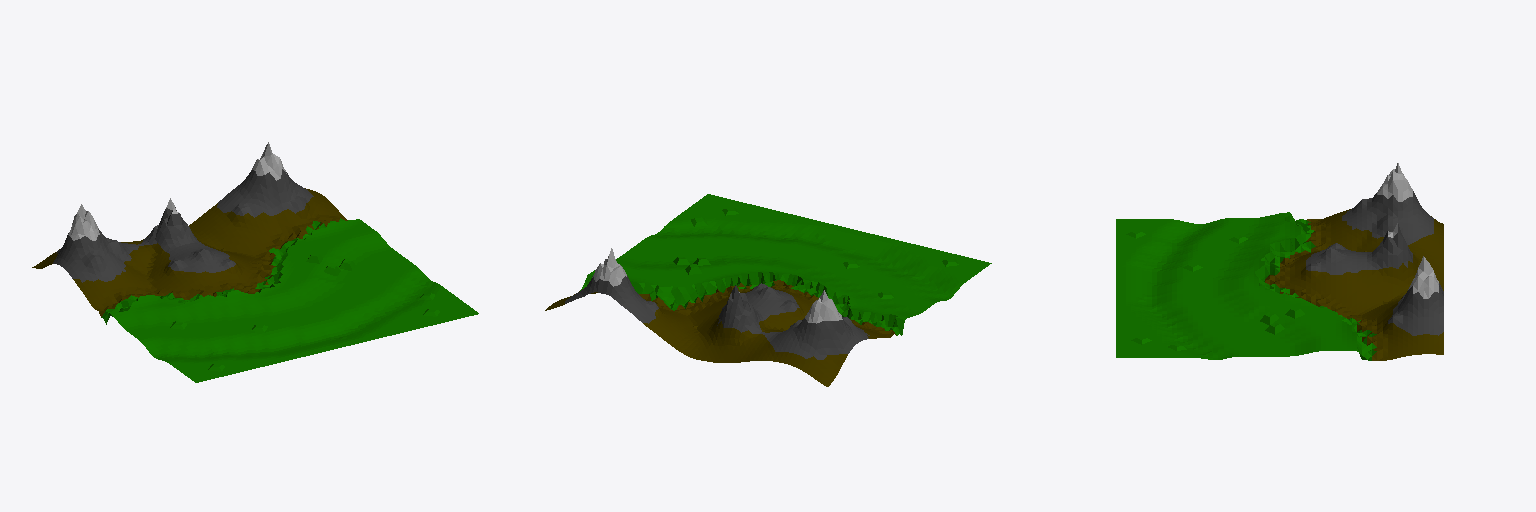
The model's file is plains.obj.
The picture shows the model from 3 angles: view 1: azimuth 30°, elevation 25°; view 2: azimuth 150°, elevation 25°; view 3: azimuth 270°, elevation 25°; orthographic projection.
Visible parts, largest first — view 1: Plane.003, Plane.002, Plane.008, Plane.004, Plane.005, Plane.006, Plane.007, Plane.001; view 2: Plane.003, Plane.008, Plane.004, Plane.005, Plane.006, Plane.002, Plane.007, Plane.001; view 3: Plane.004, Plane.007, Plane.002, Plane.001, Plane.005, Plane.003, Plane.006, Plane.008.
Part boxes in pixels (x1,y1,x2,y2): Plane.003: (210,159,412,339); Plane.002: (258,142,448,329); Plane.008: (32,204,226,382); Plane.004: (189,209,372,350); Plane.005: (147,198,328,358); Plane.006: (120,236,292,367); Plane.007: (89,212,256,375); Plane.001: (296,183,478,320); Plane.003: (611,210,813,329); Plane.008: (797,256,991,386); Plane.004: (651,220,857,358); Plane.005: (695,231,893,362); Plane.006: (731,239,928,362); Plane.002: (575,202,773,300); Plane.007: (766,248,960,367); Plane.001: (545,194,738,310); Plane.004: (1116,266,1411,311); Plane.007: (1116,171,1443,253); Plane.002: (1116,256,1443,345); Plane.001: (1116,317,1443,360); Plane.005: (1116,223,1443,290); Plane.003: (1116,294,1405,327); Plane.006: (1116,226,1443,271); Plane.008: (1116,163,1443,238).
Bounding box in the file's own units: 9.15 × 2.52 × 9.15.